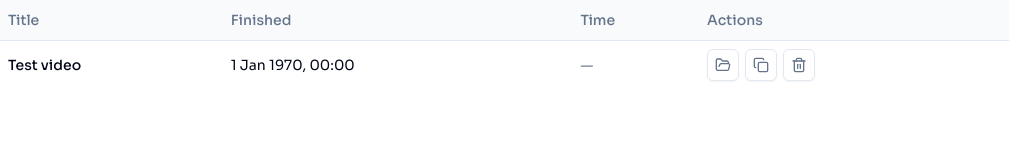
Test case: FinishedVideosTable › swaps to 'Folder missing' when fetch rejects (network error)
Click the button named "open folder".
click(723, 64)  # box 707,48 -> 739,80
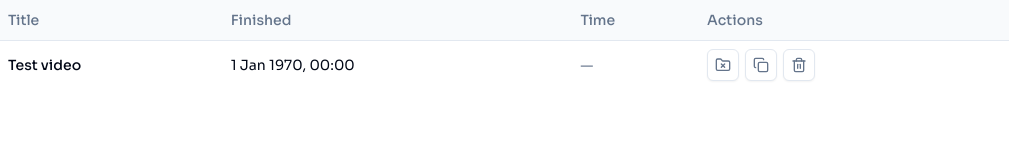
Check: the button named "folder missing" is shown, box 707,48 -> 739,80
